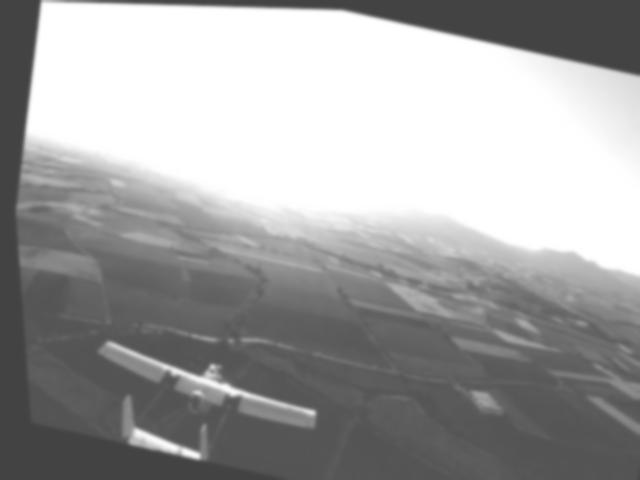hedef: (72, 327, 327, 480)
